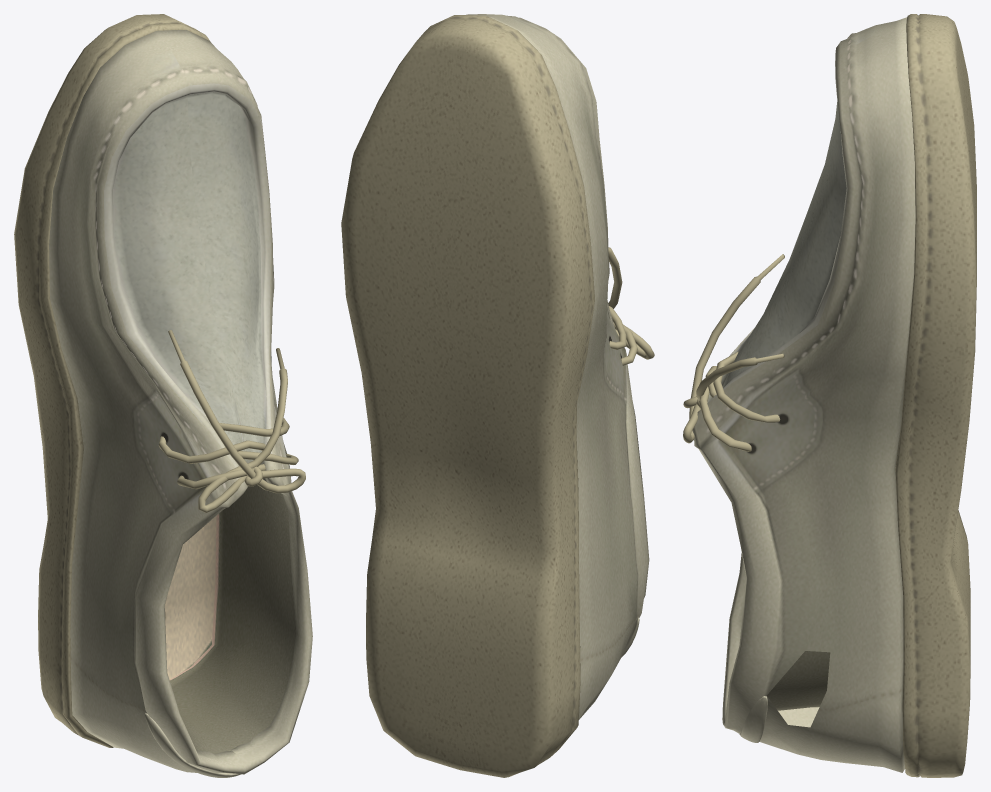
The model's file is editmodel.glb.
3 renders of one model, left to right at view 1: azimuth 30°, elevation 25°; view 2: azimuth 150°, elevation 25°; view 3: azimuth 270°, elevation 25°, orthographic. The views are drawn at different scales.
Visible parts, largest first — view 1: sapato, BézierCurve, sapato.001; view 2: sapato, BézierCurve; view 3: sapato, BézierCurve, sapato.001.
Part boxes in pixels (<box>): sapato: <box>14,14,312,774</box>; BézierCurve: <box>158,330,305,512</box>; sapato.001: <box>145,713,240,777</box>; sapato: <box>341,14,649,777</box>; BézierCurve: <box>608,247,654,365</box>; sapato: <box>692,14,976,777</box>; BézierCurve: <box>683,254,784,451</box>; sapato.001: <box>739,696,767,742</box>.
Bounding box in the file's own units: 0.2547 × 0.785 × 0.2841.
3 materials, 2 textured.
